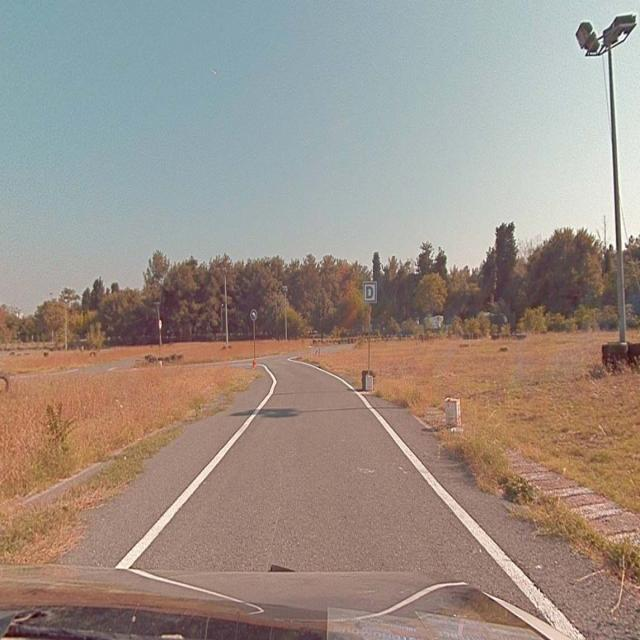durak: (362, 282, 376, 303)
sol: (250, 308, 256, 320)
